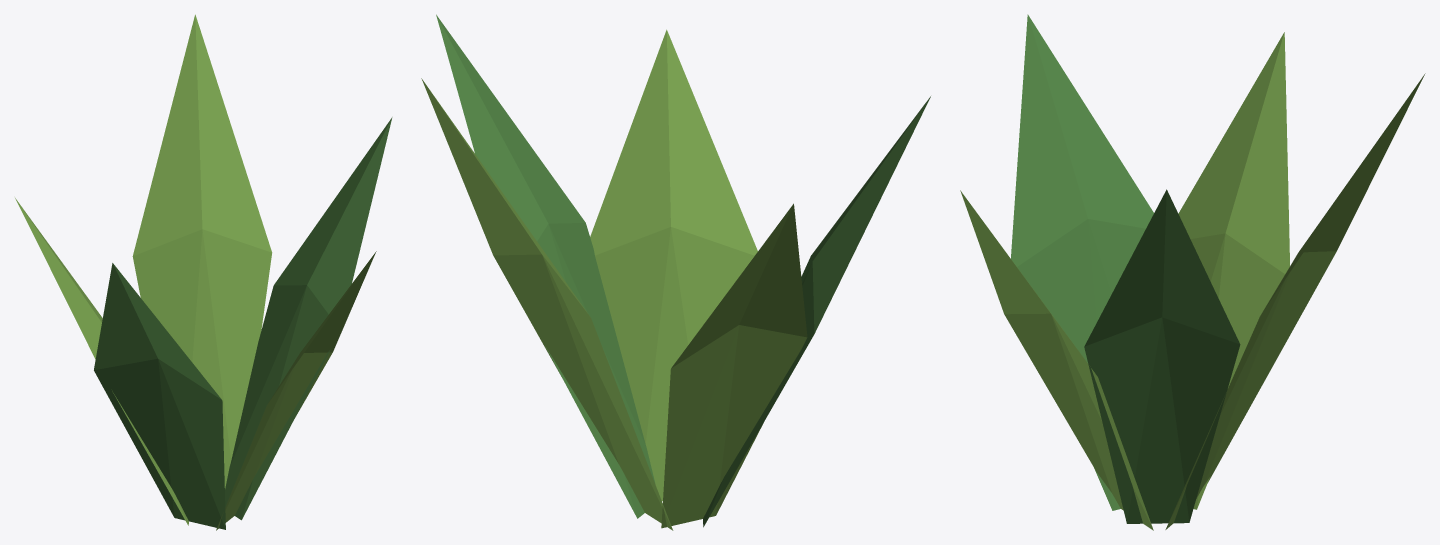
File: grass_clump_small_01.glb
3 renders of one model, left to right at view 1: azimuth 30°, elevation 25°; view 2: azimuth 150°, elevation 25°; view 3: azimuth 270°, elevation 25°, orthographic. The views are drawn at different scales.
Visible parts, largest first — view 1: grass_clump_small_01; view 2: grass_clump_small_01; view 3: grass_clump_small_01.
Boxes of the visible parts, bbox=[...] form: grass_clump_small_01: bbox=[15, 14, 392, 530]; grass_clump_small_01: bbox=[421, 14, 930, 530]; grass_clump_small_01: bbox=[960, 14, 1425, 530].
Bounding box in the file's own units: 0.2285 × 0.26 × 0.2211.
